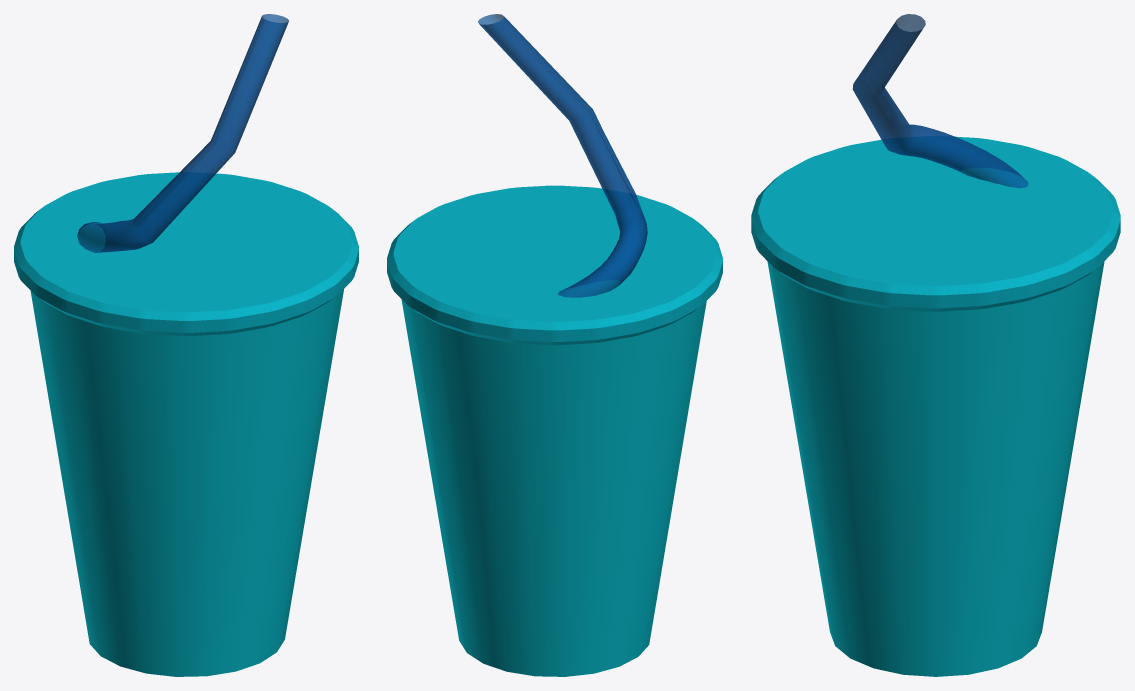
The model's file is prize6.fbx.
3 renders of one model, left to right at view 1: azimuth 30°, elevation 25°; view 2: azimuth 150°, elevation 25°; view 3: azimuth 270°, elevation 25°, orthographic. The views are drawn at different scales.
Visible parts, largest first — view 1: pCylinder1, pCylinder2, pHelix1; view 2: pCylinder1, pCylinder2, pHelix1; view 3: pCylinder1, pCylinder2, pHelix1.
Part boxes in pixels (x1,y1,x2,y2): pCylinder1: [30, 289, 343, 676]; pCylinder2: [14, 172, 358, 335]; pHelix1: [77, 14, 288, 252]; pCylinder1: [401, 299, 706, 676]; pCylinder2: [387, 185, 722, 345]; pHelix1: [478, 14, 647, 297]; pCylinder1: [767, 261, 1104, 676]; pCylinder2: [751, 136, 1120, 311]; pHelix1: [852, 14, 1028, 188].
Bounding box in the file's own units: 7.78 × 15.17 × 7.78.
